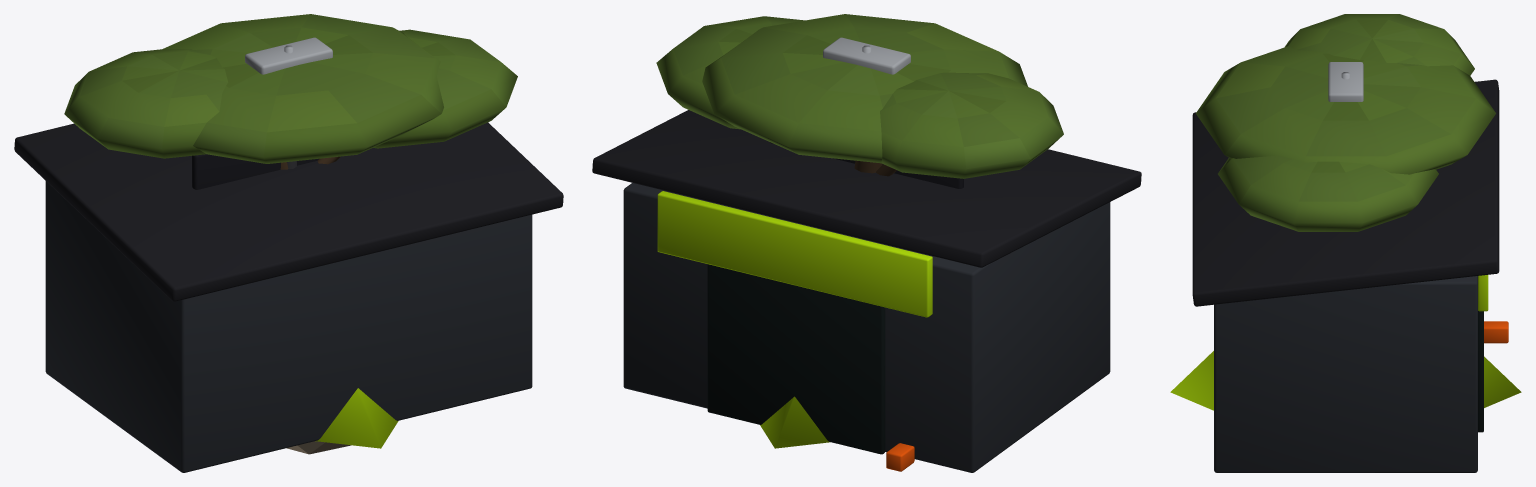
The model's file is props.glb.
3 views of the same model, side by side, from view 1: azimuth 30°, elevation 25°; view 2: azimuth 150°, elevation 25°; view 3: azimuth 270°, elevation 25° (orthographic). The views are drawn at different scales.
Visible parts, largest first — view 1: shed, tree, tent, signpost, lamp; view 2: shed, tree, tent, lamp; view 3: shed, tree, tent, lamp.
Boxes of the visible parts, x1,y1,x2,y2 form: shed: (14,122,563,472); tree: (64,14,517,169); tent: (315,388,398,448); signpost: (192,154,318,189); lamp: (245,37,332,168); shed: (592,110,1141,472); tree: (656,14,1063,178); tent: (760,396,830,448); lamp: (823,37,910,74); shed: (1192,79,1508,472); tree: (1196,14,1495,231); tent: (1170,351,1521,410); lamp: (1328,62,1363,101).
Bounding box in the file's own units: 4.98 × 4.41 × 4.
